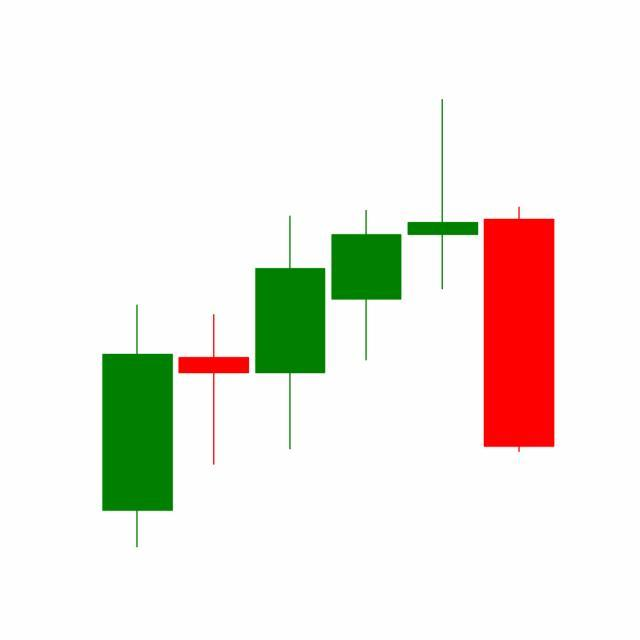Three Line Strike: (251, 100, 555, 458)
